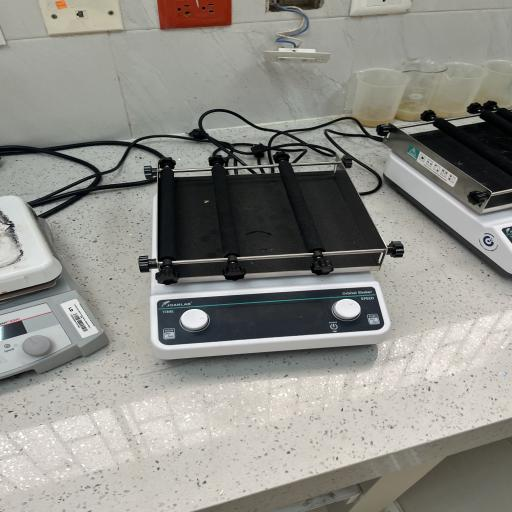Agitador_Orbital_DLAB: (122, 144, 420, 370)
